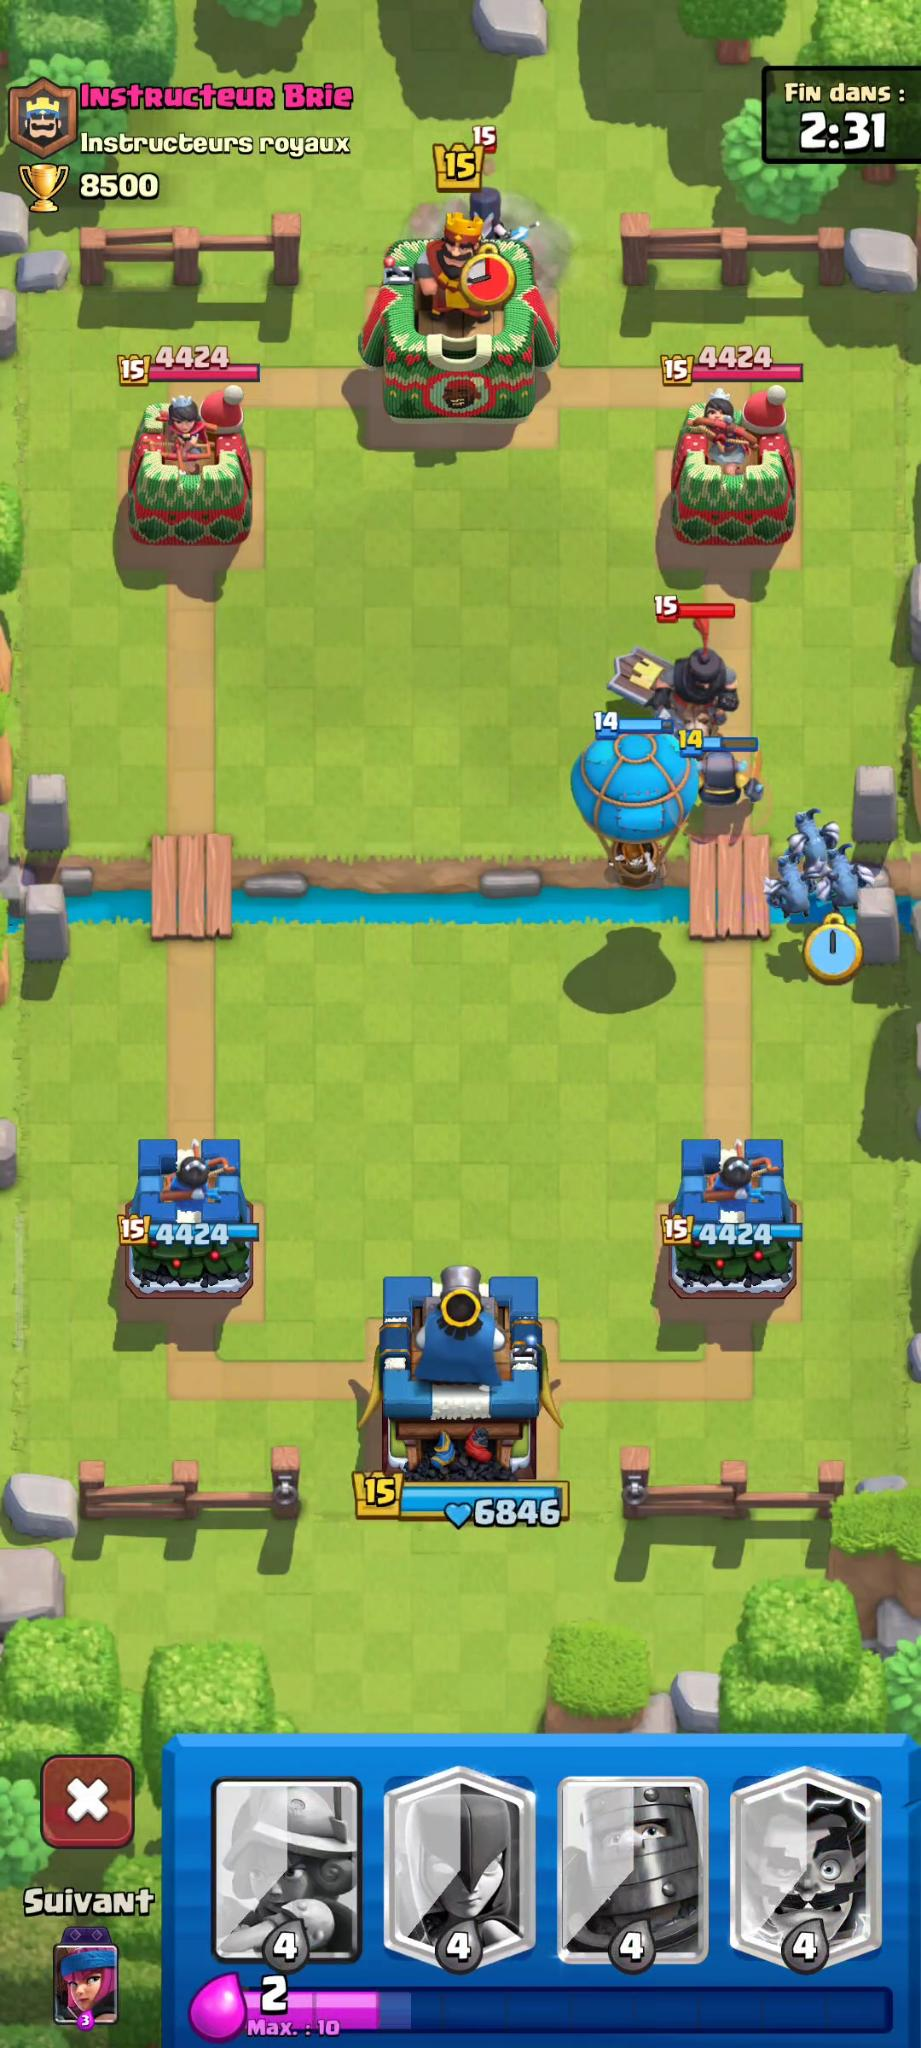gargouille: (818, 859, 882, 913), (788, 806, 848, 862), (759, 866, 818, 922)
mini_PEKKA: (674, 728, 784, 811)
